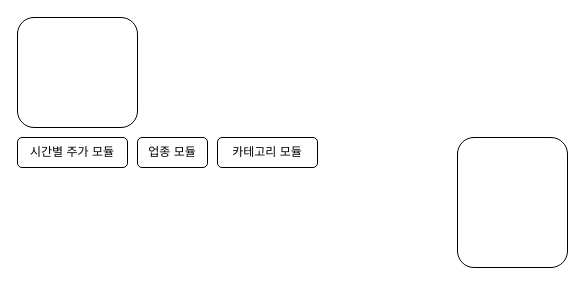
This 585x285 diagram has some shape labels left out. Each missing label, with the box of its shape:
side bar: (456, 136, 568, 268)
데이터 모듈 코스피 전체업종 ( ) 코스닥 전체업종 ( ) 특정 카테고리 ( ) 특정 종목 종합 ( ) 시간별 주가 ( ): (16, 16, 138, 128)
